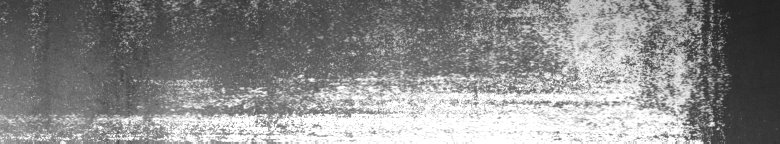kb: (4, 4, 731, 136)
